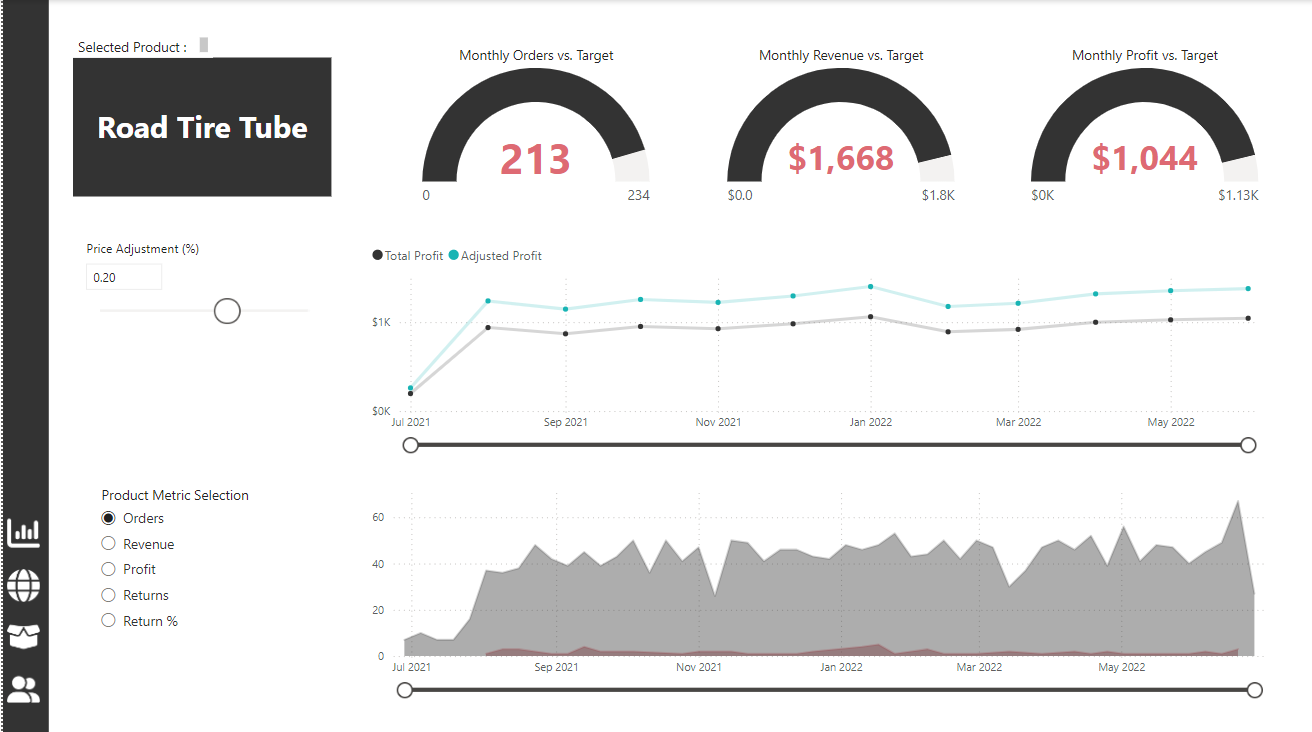

The page's visual inventory and layout, read from the dashboard file:
{"tool":"powerbi","page":{"name":"Product Detail","canvas":[1280,720],"ordinal":2},"visuals":[{"type":"shape","box":[0,0,45,720.2],"z":0},{"type":"gauge","title":"Monthly Orders vs. Target","fields":{"Y":["Measure Table.Total Orders"],"MaxValue":["Measure Table.Order Target"]},"box":[391.8,44.3,260.5,166.3],"z":1000},{"type":"gauge","title":"Monthly Revenue vs. Target","fields":{"Y":["Measure Table.Total Revenue"],"MaxValue":["Measure Table.Revenue Target"]},"box":[689.6,44.3,260.5,166.3],"z":2000},{"type":"actionButton","box":[0.2,500.9,45.2,40.4],"z":2000,"group":"g1"},{"type":"gauge","title":"Monthly Profit vs. Target","fields":{"Y":["Measure Table.Total Profit"],"MaxValue":["Measure Table.Profit Target"]},"box":[987.3,44.3,260.5,166.3],"z":3000},{"type":"lineChart","title":"Profit Trending","fields":{"Category":["Calendar Lookup.Date Hierarchy.Start of Year","Calendar Lookup.Date Hierarchy.Start of Month","Calendar Lookup.Date Hierarchy.Start of Week","Calendar Lookup.Date Hierarchy.Date"],"Y":["Measure Table.Total Profit","Measure Table.Adjusted Profit"]},"box":[355.8,229.9,891.4,216.4],"z":4000},{"type":"actionButton","box":[0.2,551.9,45.2,40.4],"z":4000,"group":"g1"},{"type":"areaChart","title":"Returns Trending","fields":{"Y":["Measure Table.Total Returns","Measure Table.Total Orders"],"Category":["Calendar Lookup.Date Hierarchy.Start of Year","Calendar Lookup.Date Hierarchy.Start of Month","Calendar Lookup.Date Hierarchy.Start of Week","Calendar Lookup.Date Hierarchy.Date"]},"box":[355.8,469.6,897.6,216.4],"z":5000},{"type":"actionButton","box":[0.2,602.8,45.2,40.4],"z":5000,"group":"g1"},{"type":"card","fields":{"Values":["Min(Product Lookup.ProductName)"]},"box":[68.5,56.3,253.1,135.7],"z":6000},{"type":"actionButton","box":[0.2,653.8,45.2,40.4],"z":6000,"group":"g1"},{"type":"textbox","box":[68.5,31.8,137,24.5],"z":7000},{"type":"group","id":"g1","title":"Navigation Buttons","box":[0.2,500.9,45.2,193.2],"z":8000},{"type":"slicer","fields":{"Values":["Price Adjustment (%).Price Adjustment (%)"]},"box":[68.5,229.9,253.1,137],"z":9000},{"type":"slicer","fields":{"Values":["Product Metric Selection.Product Metric Selection"]},"box":[83.2,469.6,223.8,195.7],"z":10000}]}

Visuals, with their boxes on the page's 1280x720 design canvas (x1, y1, x2, y2). These are canvas units, not pixel positions in the 1312x732 screenshot, which may show the page scaled, cropped or inside an application window:
shape: detection(0, 0, 45, 720)
"Monthly Orders vs. Target" gauge: detection(392, 44, 652, 211)
"Monthly Revenue vs. Target" gauge: detection(690, 44, 950, 211)
actionButton: detection(0, 501, 45, 541)
"Monthly Profit vs. Target" gauge: detection(987, 44, 1248, 211)
"Profit Trending" lineChart: detection(356, 230, 1247, 446)
actionButton: detection(0, 552, 45, 592)
"Returns Trending" areaChart: detection(356, 470, 1253, 686)
actionButton: detection(0, 603, 45, 643)
card - Min(Product Lookup.ProductName): detection(68, 56, 322, 192)
actionButton: detection(0, 654, 45, 694)
textbox: detection(68, 32, 206, 56)
"Navigation Buttons" group: detection(0, 501, 45, 694)
slicer - Price Adjustment (%).Price Adjustment (%): detection(68, 230, 322, 367)
slicer - Product Metric Selection.Product Metric Selection: detection(83, 470, 307, 665)
